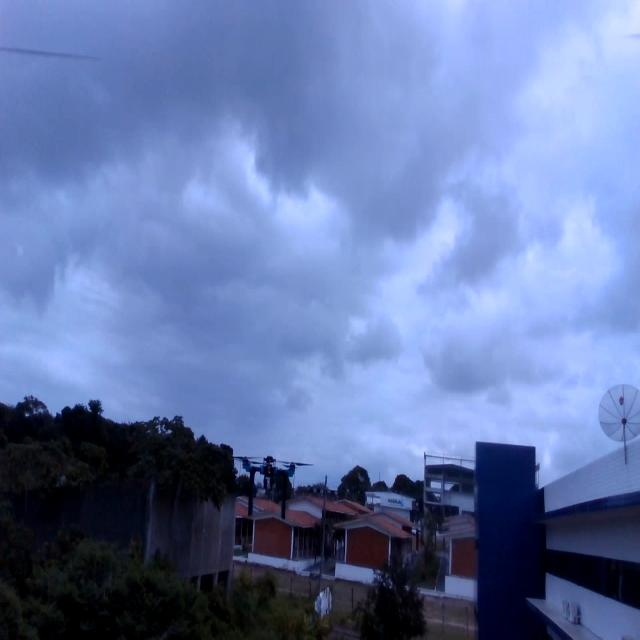-uav-: (234, 437, 315, 527)
